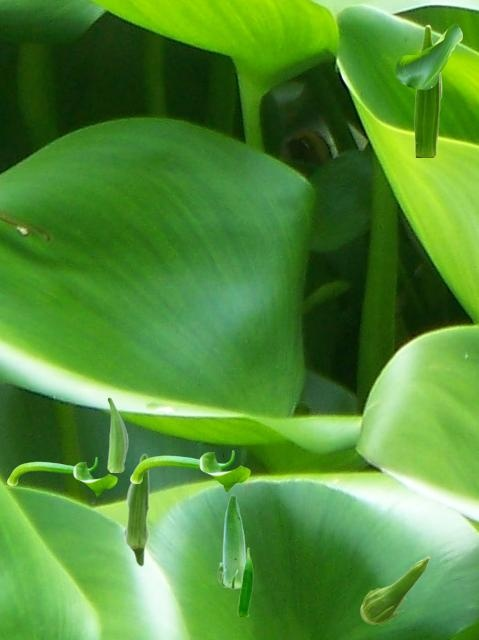okra: (360, 556, 429, 623), (414, 24, 441, 156), (130, 450, 233, 482), (123, 453, 149, 566), (217, 494, 245, 588), (7, 457, 96, 484), (107, 397, 127, 471), (237, 547, 252, 615)
